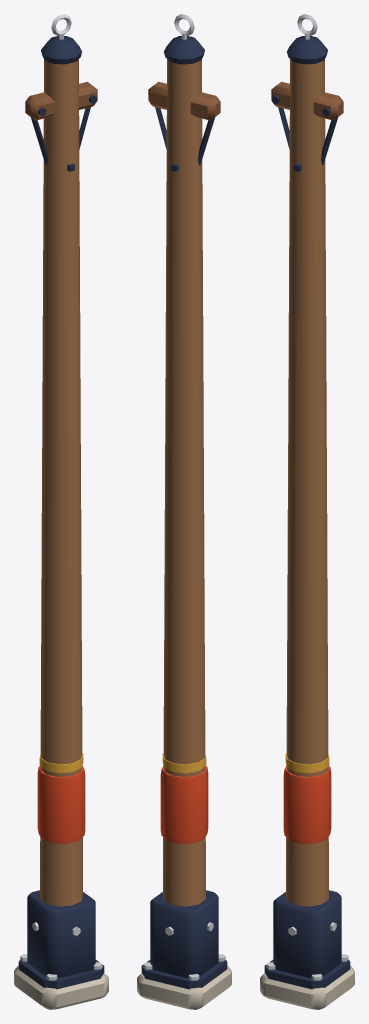
Rendered from Lobby_FestoonPole.fbx.
3 renders of one model, left to right at view 1: azimuth 30°, elevation 25°; view 2: azimuth 150°, elevation 25°; view 3: azimuth 330°, elevation 25°, orthographic.
Parts seen in each view (by area): view 1: Pole, Shoe, Guard, Footing, Braces, CrossArm, EyeBolt, Ring; view 2: Pole, Shoe, Guard, Footing, Braces, CrossArm, EyeBolt, Ring; view 3: Pole, Shoe, Guard, Footing, Braces, CrossArm, EyeBolt, Ring.
Boxes of the visible parts, x1,y1,x2,y2 form: Pole: [40, 59, 82, 906]; Shoe: [18, 890, 104, 989]; Guard: [37, 765, 85, 843]; Footing: [14, 965, 108, 1009]; Braces: [31, 36, 96, 171]; CrossArm: [25, 81, 97, 120]; EyeBolt: [20, 14, 102, 980]; Ring: [39, 753, 83, 773]; Pole: [163, 59, 205, 906]; Shoe: [141, 890, 227, 989]; Guard: [160, 765, 208, 843]; Footing: [137, 965, 231, 1009]; Braces: [155, 36, 214, 171]; CrossArm: [148, 81, 220, 120]; EyeBolt: [143, 14, 225, 980]; Ring: [162, 753, 206, 773]; Pole: [286, 59, 328, 906]; Shoe: [264, 890, 350, 989]; Guard: [283, 765, 331, 843]; Footing: [260, 965, 354, 1009]; Braces: [272, 36, 337, 171]; CrossArm: [271, 81, 343, 120]; EyeBolt: [266, 14, 348, 980]; Ring: [285, 753, 329, 773].
Size of the model in its own units: 100 by 1399 by 100.
